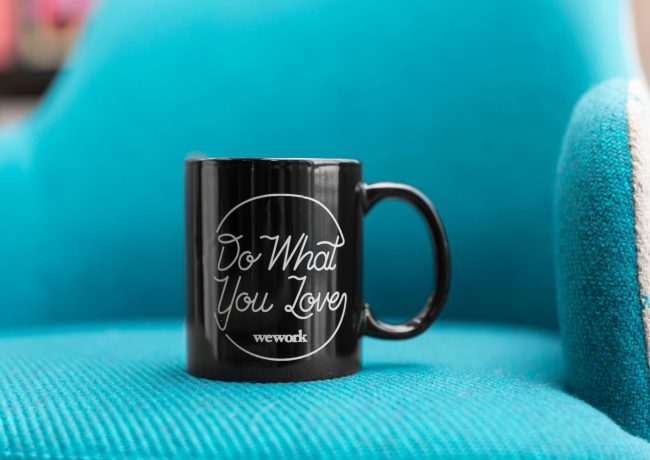wework: (251, 326, 309, 345)
